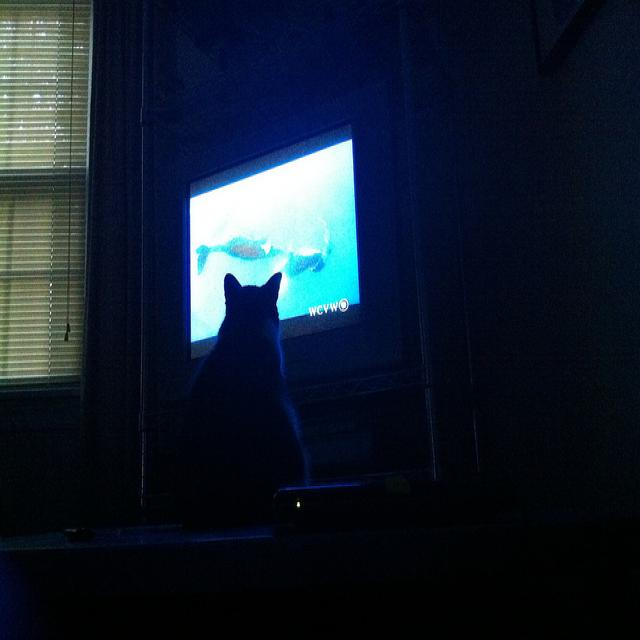Cat: (149, 247, 334, 508)
Table: (2, 497, 640, 640)
